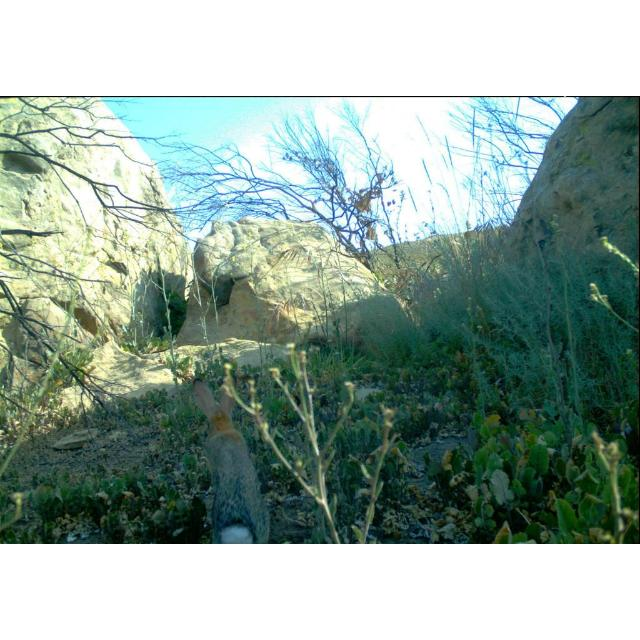animals: (190, 377, 274, 545)
